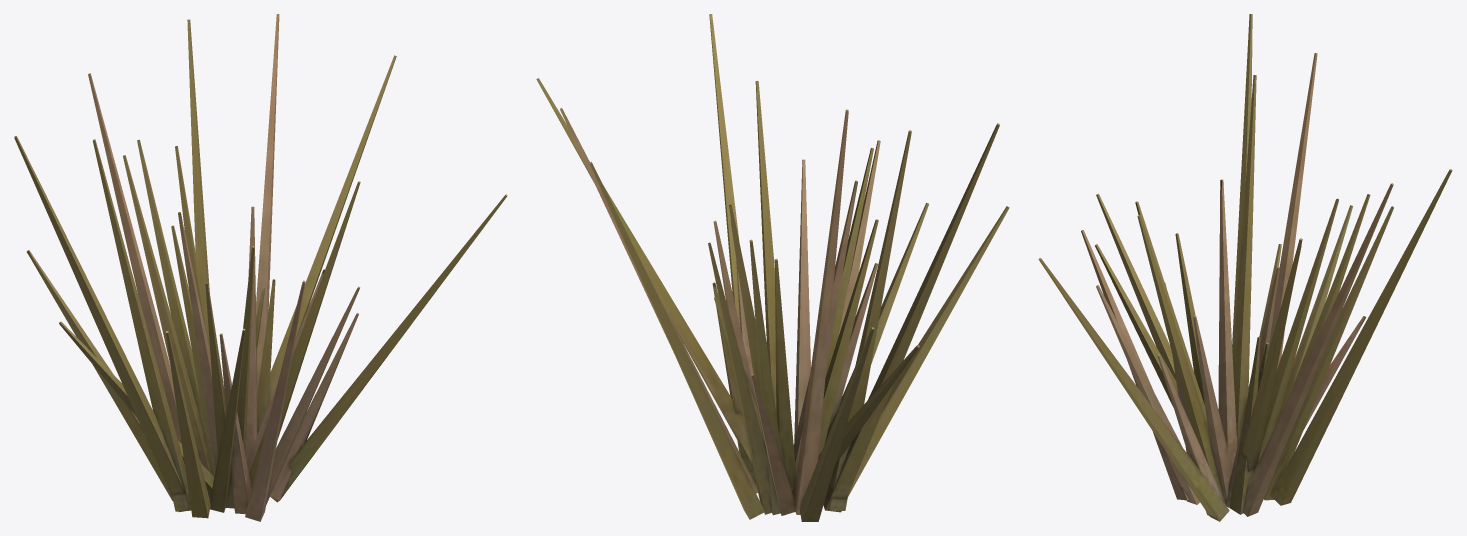
The model's file is dry_grass_b.glb.
3 renders of one model, left to right at view 1: azimuth 30°, elevation 25°; view 2: azimuth 150°, elevation 25°; view 3: azimuth 270°, elevation 25°, orthographic. The views are drawn at different scales.
Parts seen in each view (by area): view 1: DryGrass_Mesh; view 2: DryGrass_Mesh; view 3: DryGrass_Mesh.
Part boxes in pixels (left/top/right/bottom): DryGrass_Mesh: left=14, top=14, right=507, bottom=521; DryGrass_Mesh: left=536, top=14, right=1009, bottom=521; DryGrass_Mesh: left=1038, top=14, right=1452, bottom=521.
Bounding box in the file's own units: 0.5728 × 0.5648 × 0.5257.
Materials: 1 (1 with a texture image).
